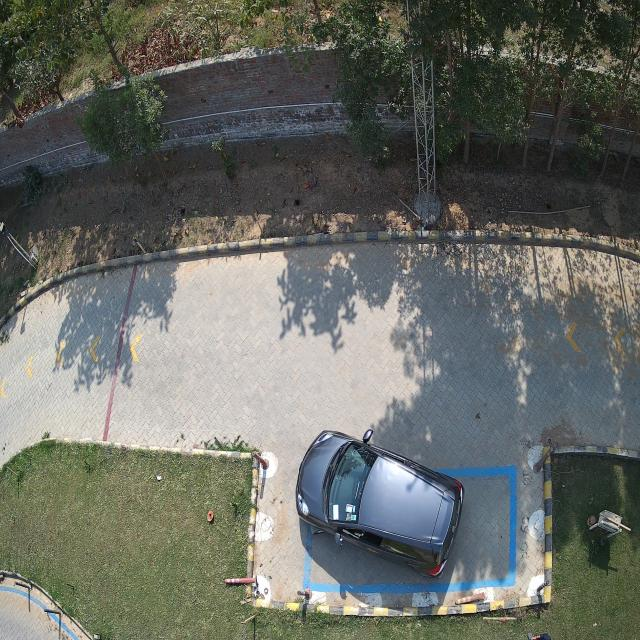car: (296, 430, 464, 577)
